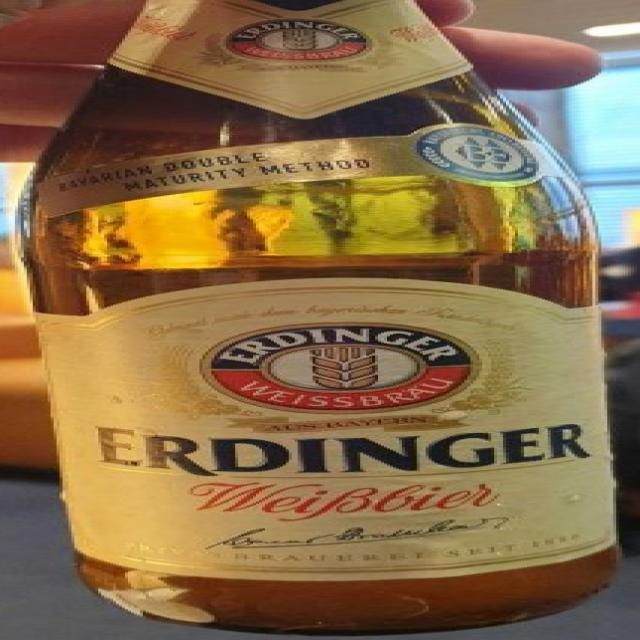Erdinger Weisbier: (3, 0, 640, 640)
